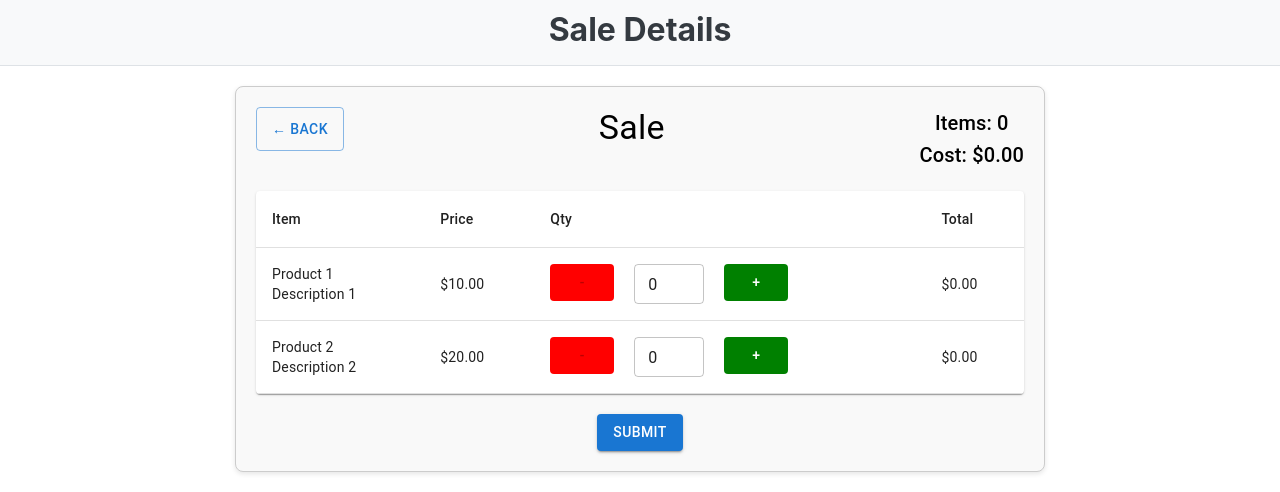
Test: SubmitSalePage › handles quantity change correctly
The image size is (1280, 492).
Expected: the number field in the row of "Product 1" holds "0", [634, 264, 704, 304]
Increment quantity
Click the button "+" in the row of "Product 1" at [756, 282], box [724, 264, 788, 300]
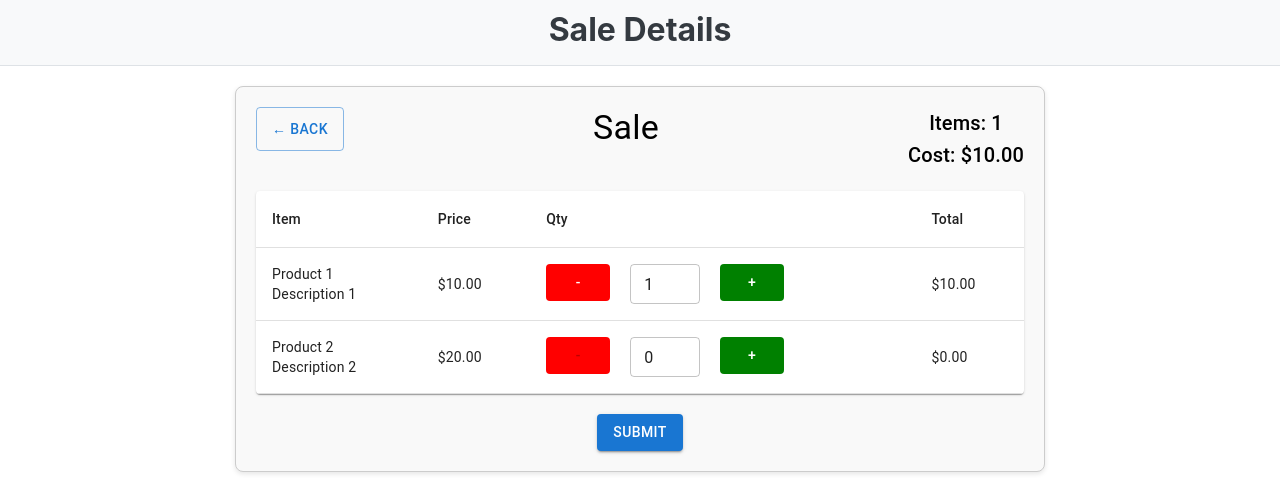
Expected: the number field in the row of "Product 1" holds "1", [630, 264, 700, 304]
Decrement quantity
Click the button "-" in the row of "Product 1" at [578, 282], box [546, 264, 610, 300]
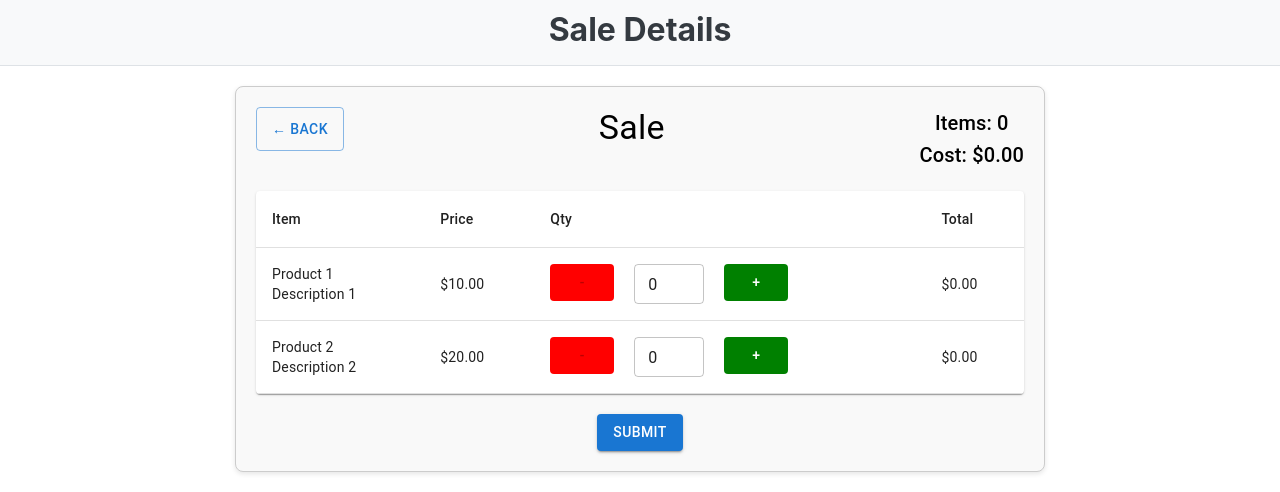
Expected: the number field in the row of "Product 1" holds "0", [634, 264, 704, 304]
